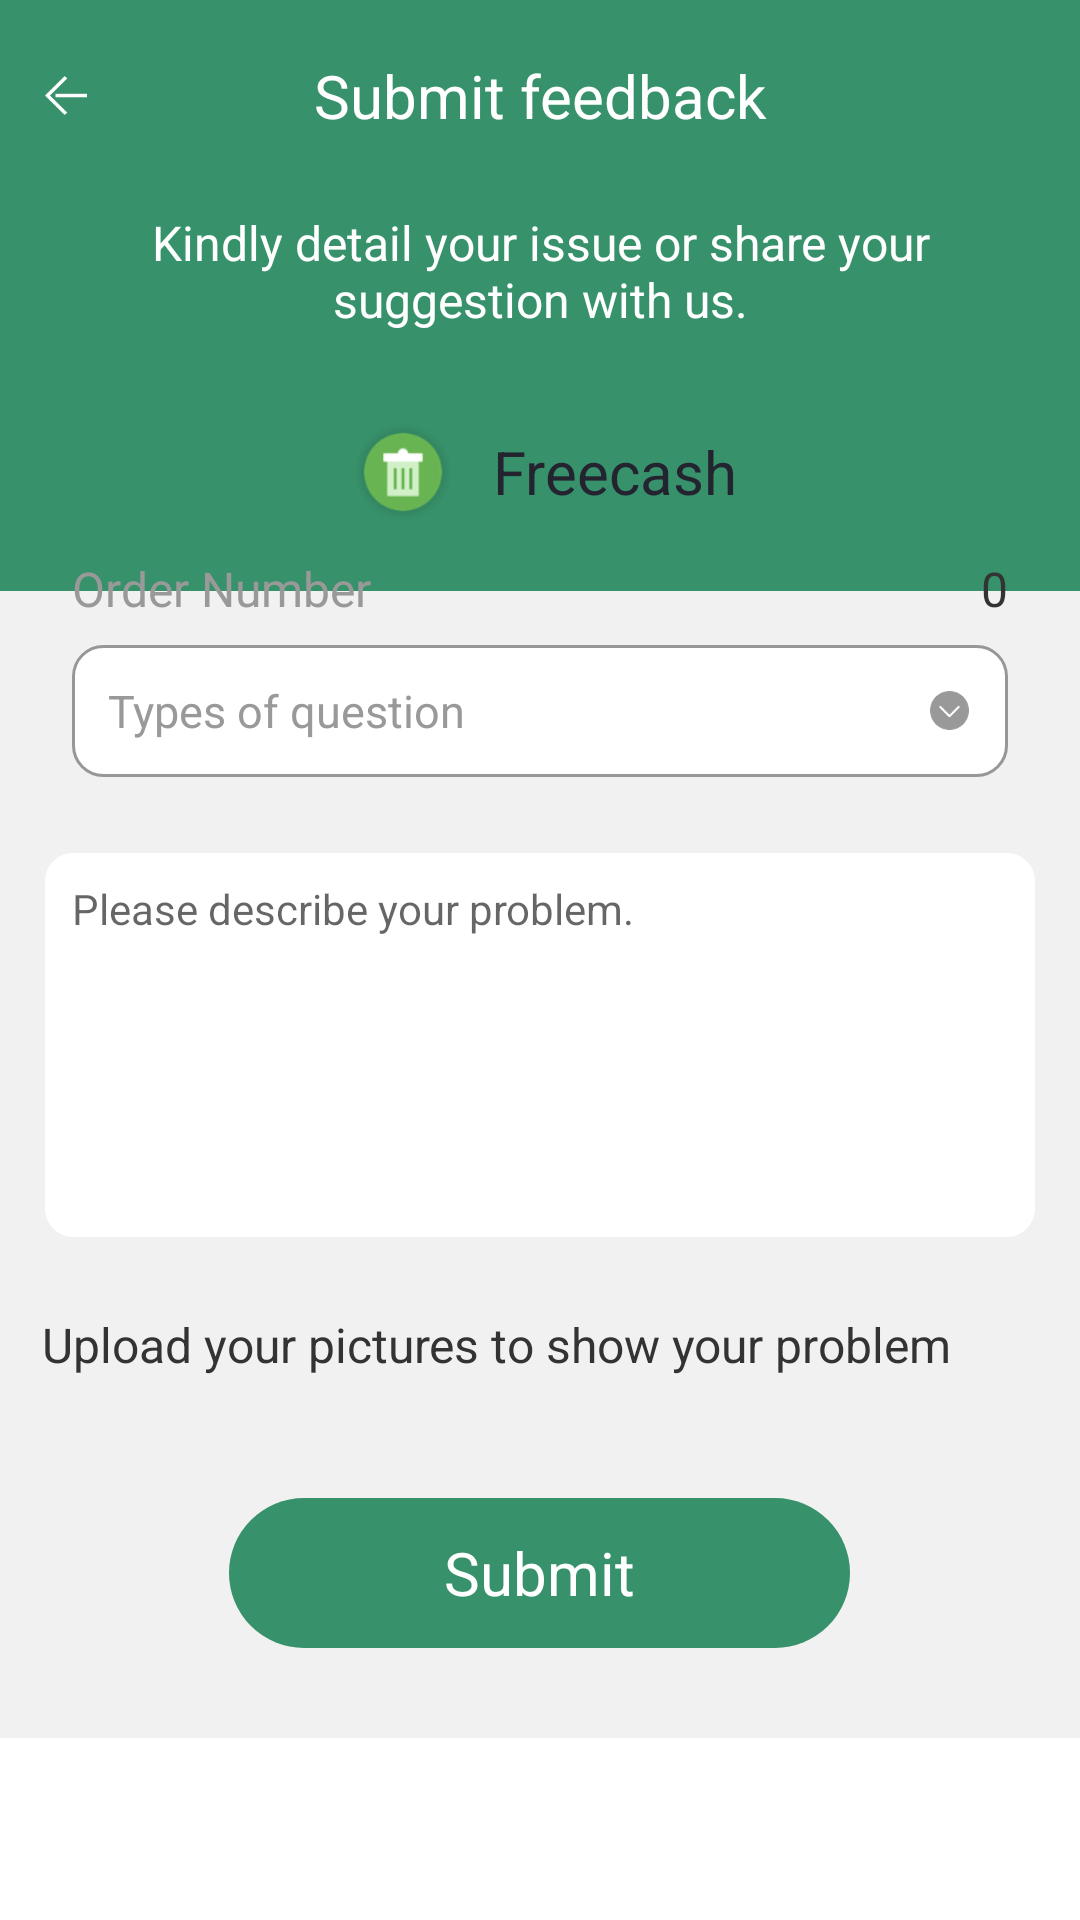

Icon click points for this 1080×1920 phone screenshot, format (x=x, y=y):
delete: (x=403, y=472)
xiala: (x=949, y=710)
